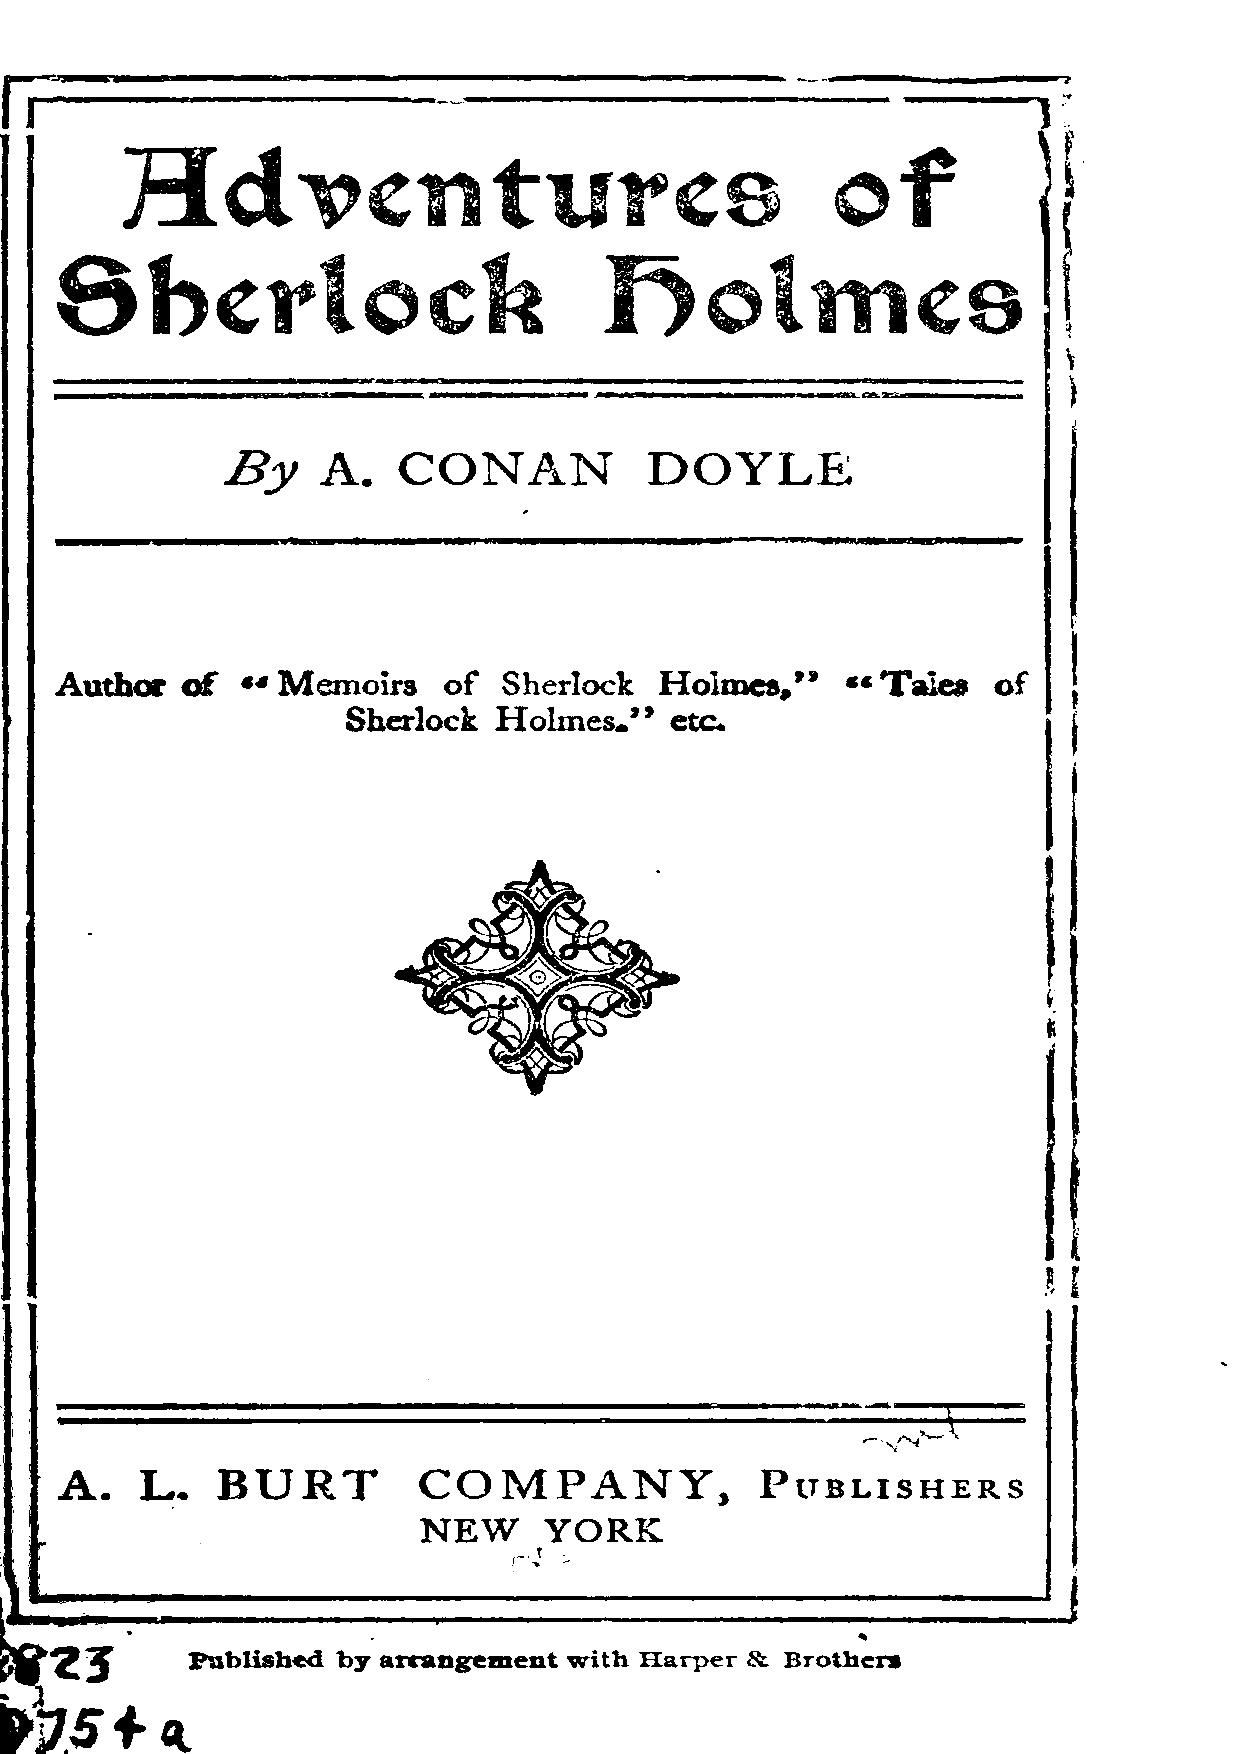author: (220, 448, 852, 498)
title: (54, 144, 1023, 348)
